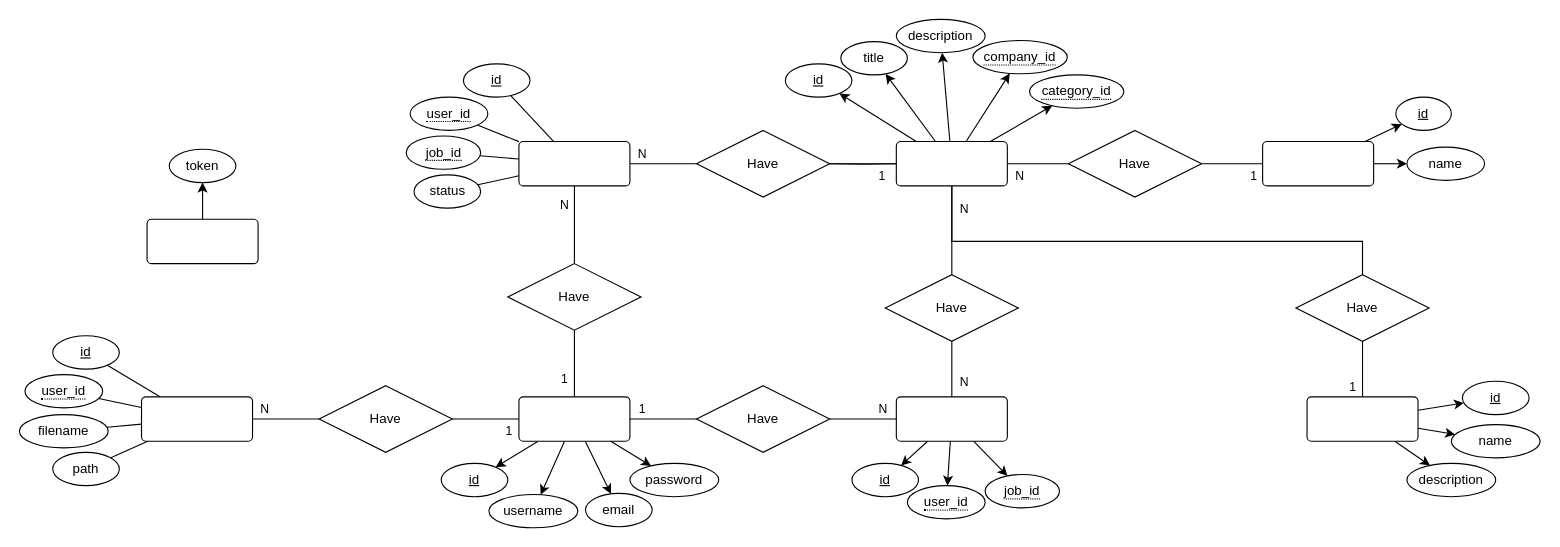
Some shapes in this 1560 by 547 pixel diagram are drawn without their labels. The shapes that lost their labels are listed below. From the top down, each one's centre as x and y in pixels, then its label:
At pixel 574 163: "applications".
At pixel 951 163: "jobs".
At pixel 1318 163: "categories".
At pixel 202 241: "authentications".
At pixel 196 418: "documents".
At pixel 574 418: "users".
At pixel 951 418: "bookmarks".
At pixel 1362 418: "companies".
